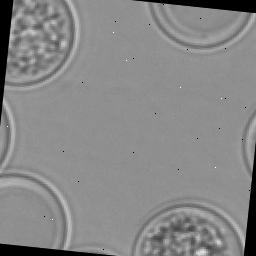picoshell: (6, 0, 81, 89), (133, 199, 245, 256), (0, 170, 73, 249), (145, 1, 256, 52), (0, 99, 16, 170), (243, 110, 256, 175), (71, 243, 121, 254)
